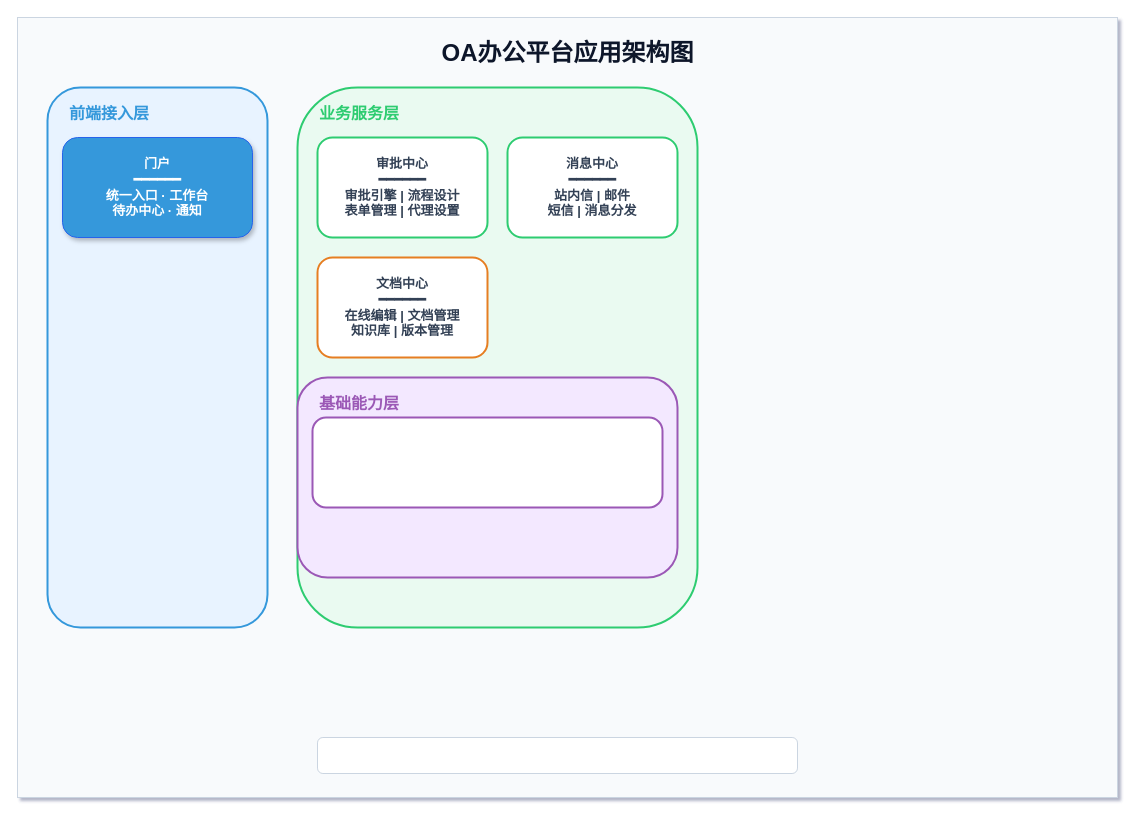
The diagram is 1141 pixels wide and 821 high, and some of its shapes have lost their labels. Each missing label, with the centre of its shape:
统一身份认证 ━━━━━━━━ SSO | OAuth2.0 权限管理 | 审计日志: the point at 487,462
蓝色=前端接入 绿色=业务服务 橙色=文档服务 紫色=基础能力: the point at 557,755
